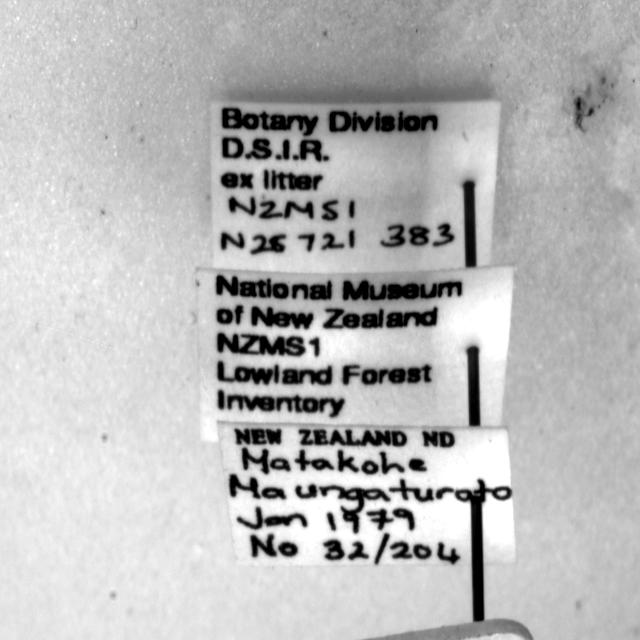mixed_label: (211, 101, 500, 272), (219, 422, 516, 566)
typed_label: (196, 266, 512, 441)
